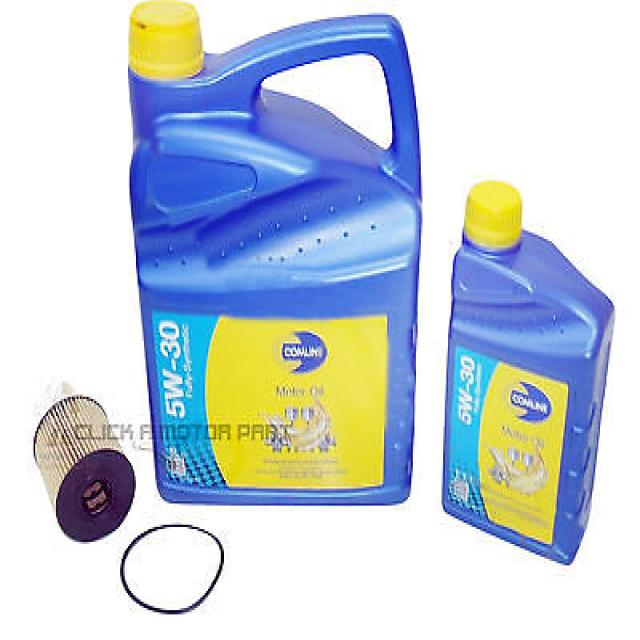motor_oil: (124, 1, 426, 505), (446, 177, 618, 574)
oil_filter: (31, 389, 135, 545)
